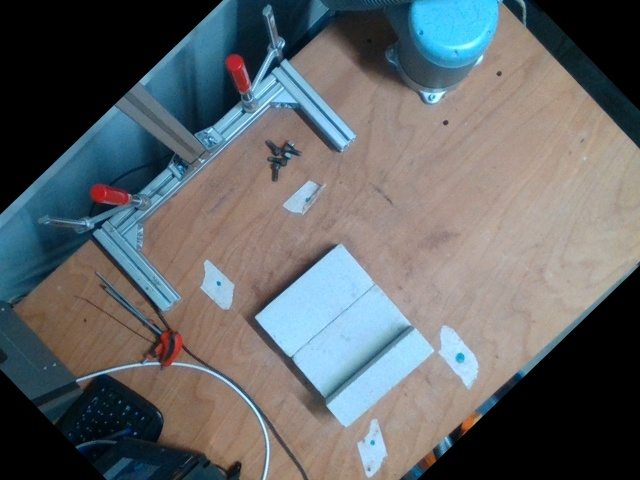brick-side: (324, 327, 438, 430)
